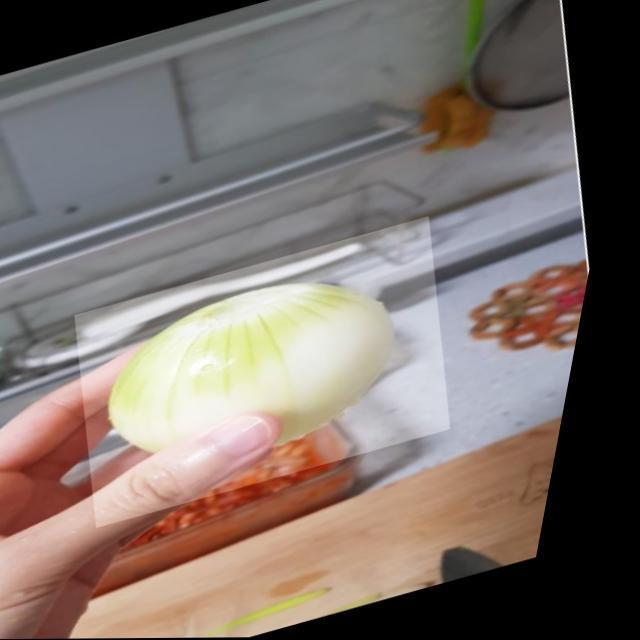Onion: (56, 217, 498, 528)
